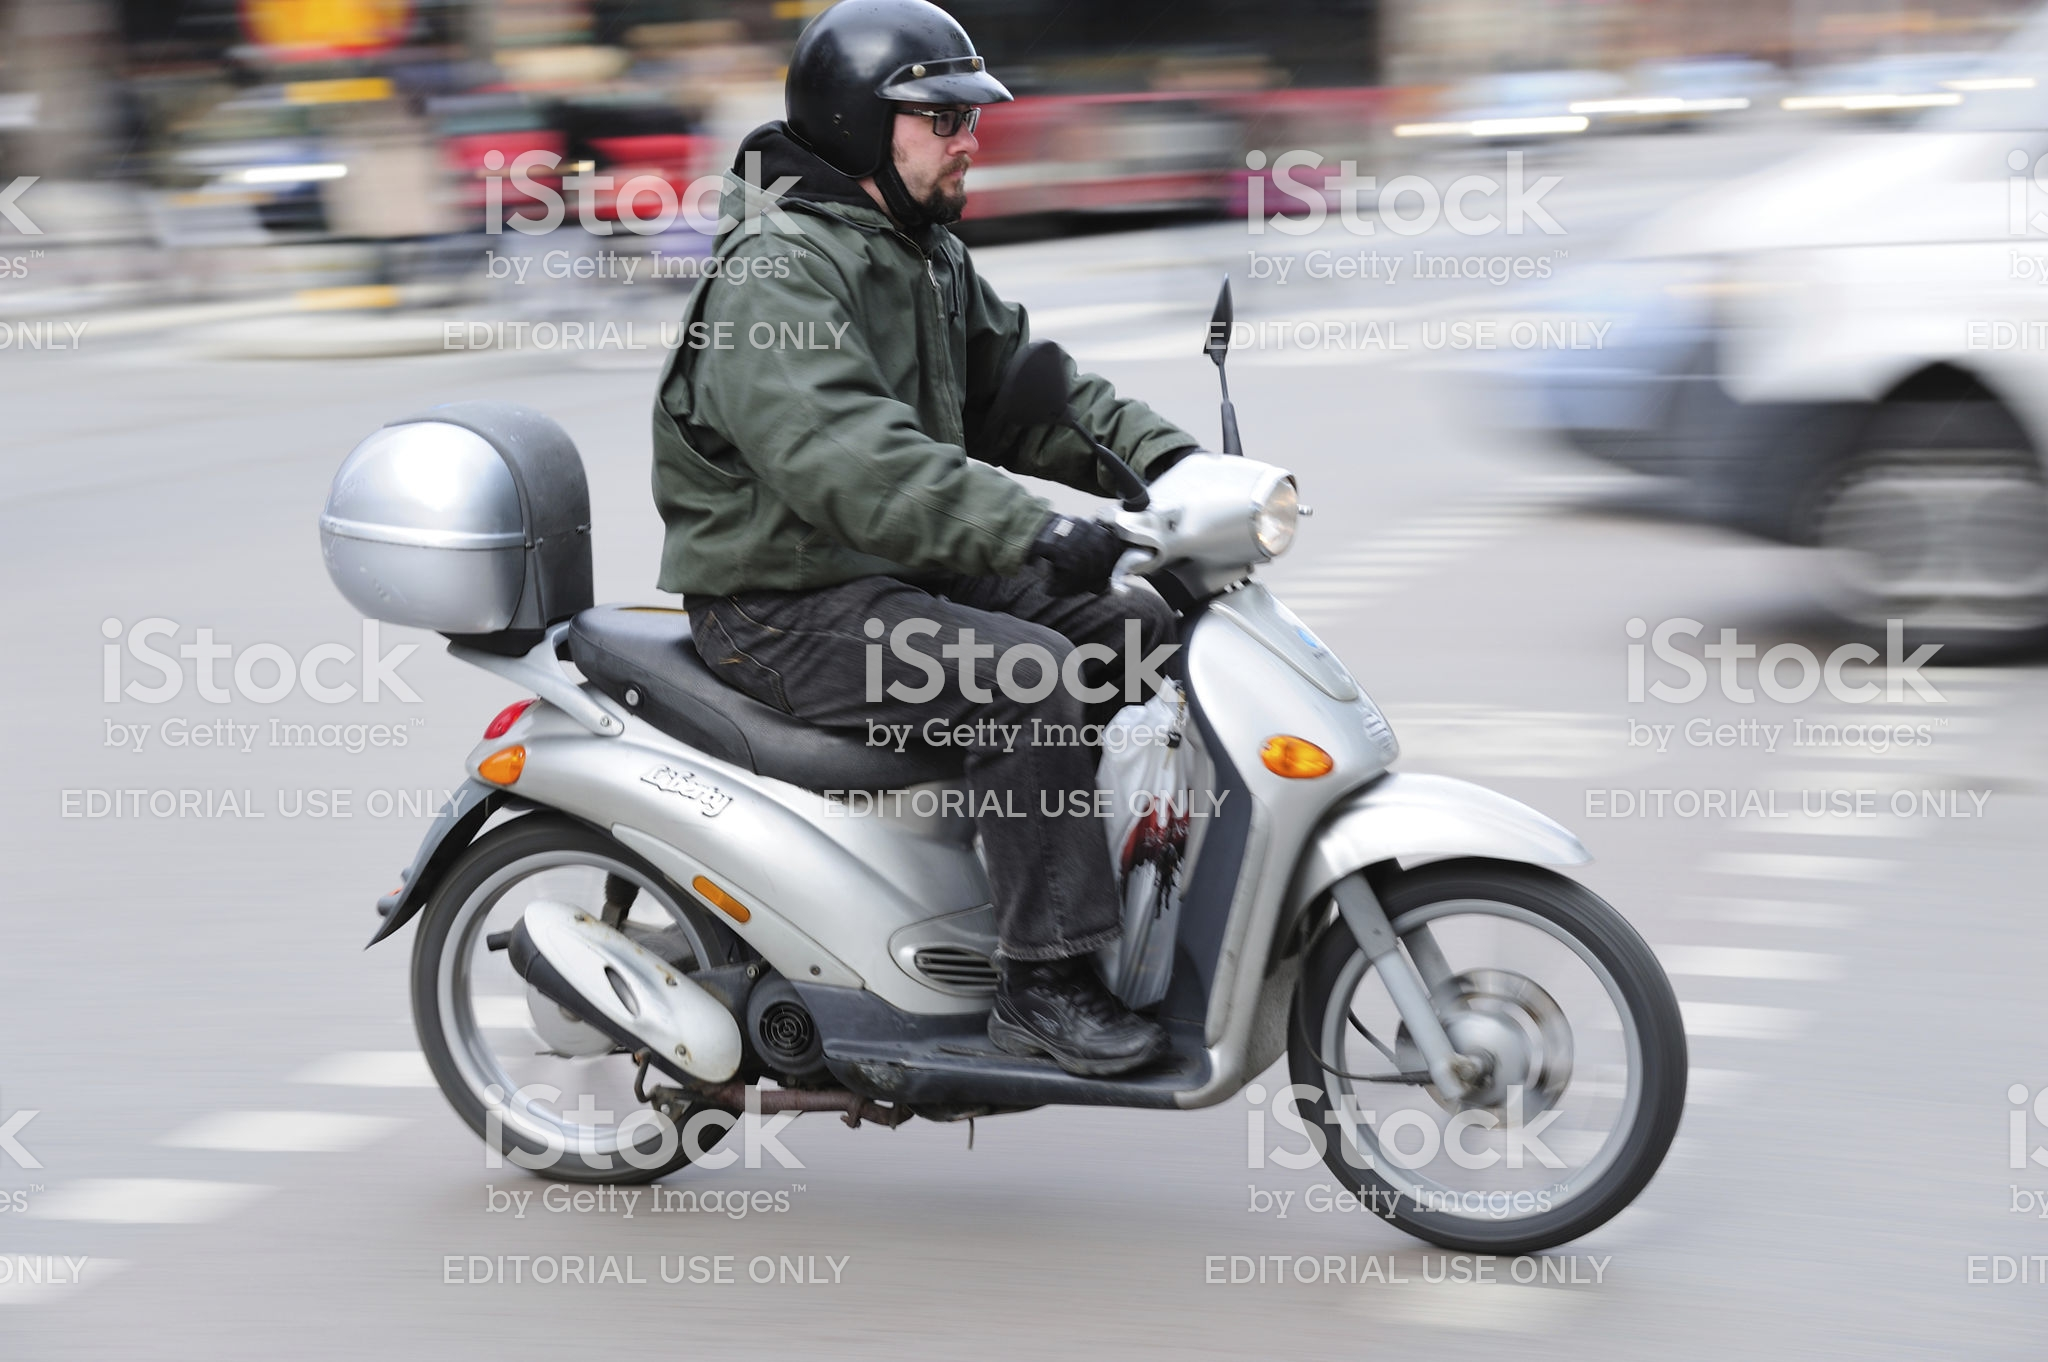helmet: (773, 9, 1004, 201)
